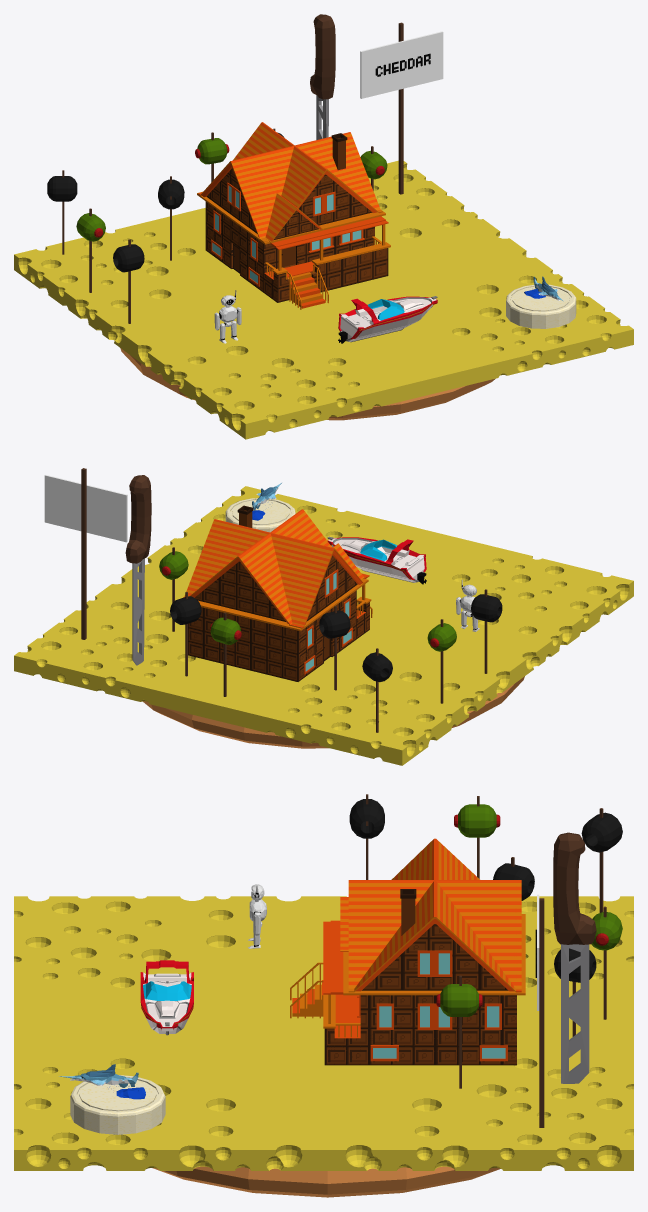
3 renders of one model, top to bottom at view 1: azimuth 30°, elevation 25°; view 2: azimuth 150°, elevation 25°; view 3: azimuth 270°, elevation 25°, orthographic. The views are drawn at different scales.
Parts seen in each view (by area): view 1: Cube.022, Cube, Cube.023, VEHICLES_BOAT, Cylinder.016, Cube.024, UNDERGROUND_PIZZA, Sphere.017, Sphere.016, OBJRANDOM_PLATZEEBOT, Sphere.018, Sphere.022 (+2 smaller); view 2: Cube.022, Cube, Cube.023, Cube.024, VEHICLES_BOAT, UNDERGROUND_PIZZA, Cylinder.016, Sphere.017, Sphere.022, Sphere.020, Sphere.021, Sphere.018 (+4 smaller); view 3: Cube.022, Cube, Cube.024, UNDERGROUND_PIZZA, Cylinder.016, VEHICLES_BOAT, Cube.023, Sphere.016, Sphere.019, Sphere.018, Sphere.017, Sphere.022 (+4 smaller).
Boxes of the visible parts, bbox=[...] form: Cube.022: bbox=[14, 160, 633, 439]; Cube: bbox=[197, 122, 390, 309]; Cube.023: bbox=[360, 22, 443, 194]; VEHICLES_BOAT: bbox=[338, 296, 437, 343]; Cylinder.016: bbox=[506, 284, 576, 328]; Cube.024: bbox=[310, 14, 335, 139]; UNDERGROUND_PIZZA: bbox=[120, 348, 495, 420]; Sphere.017: bbox=[113, 239, 144, 323]; Sphere.016: bbox=[47, 170, 77, 254]; OBJRANDOM_PLATZEEBOT: bbox=[214, 290, 241, 343]; Sphere.018: bbox=[76, 208, 105, 292]; Sphere.022: bbox=[195, 132, 229, 181]; Cube.022: bbox=[14, 486, 633, 765]; Cube: bbox=[183, 505, 372, 681]; Cube.023: bbox=[44, 468, 127, 639]; Cube.024: bbox=[125, 475, 151, 665]; VEHICLES_BOAT: bbox=[327, 536, 426, 584]; UNDERGROUND_PIZZA: bbox=[143, 676, 524, 748]; Cylinder.016: bbox=[225, 498, 295, 532]; Sphere.017: bbox=[471, 589, 502, 673]; Sphere.022: bbox=[210, 612, 241, 696]; Sphere.020: bbox=[319, 606, 350, 690]; Sphere.021: bbox=[170, 592, 201, 676]; Sphere.018: bbox=[427, 619, 456, 703]; Cube.022: bbox=[14, 896, 633, 1170]; Cube: bbox=[290, 838, 525, 1065]; Cube.024: bbox=[553, 832, 596, 1083]; UNDERGROUND_PIZZA: bbox=[152, 1166, 500, 1197]; Cylinder.016: bbox=[70, 1075, 165, 1134]; VEHICLES_BOAT: bbox=[140, 960, 193, 1035]; Cube.023: bbox=[535, 894, 544, 1127]; Sphere.016: bbox=[581, 808, 622, 912]; Sphere.019: bbox=[436, 975, 482, 1088]; Sphere.018: bbox=[454, 796, 500, 878]; Sphere.017: bbox=[349, 794, 384, 879]; Sphere.022: bbox=[591, 906, 622, 1019].
Size of the model in its own units: 3917 by 2219 by 4000.
37 materials, 4 textured.
